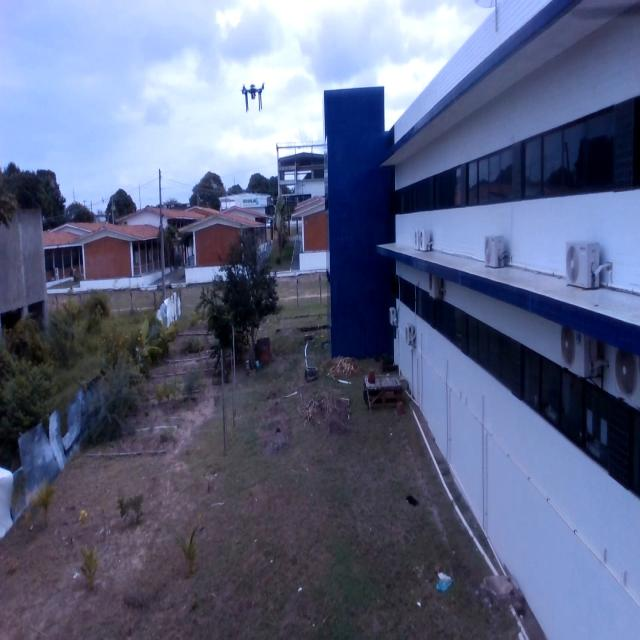-uav-: (236, 72, 271, 121)
